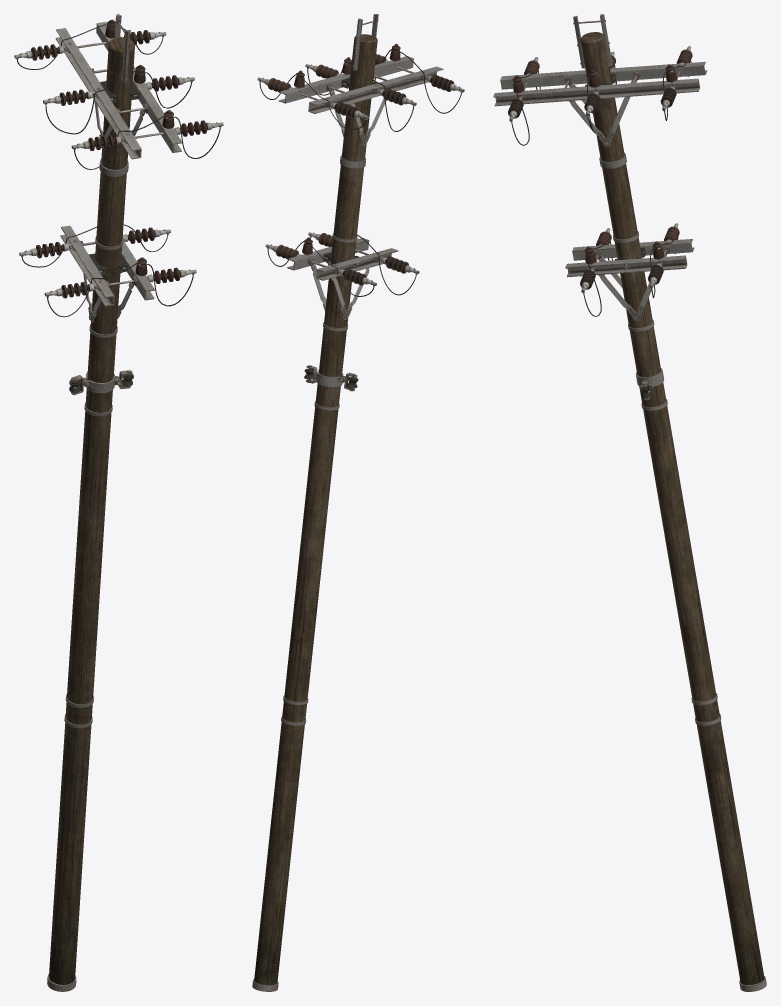
The model's file is SM_PH_elektrik_diregi.fbx.
The picture shows the model from 3 angles, left to right: view 1: azimuth 30°, elevation 25°; view 2: azimuth 150°, elevation 25°; view 3: azimuth 270°, elevation 25°; orthographic projection. The views are drawn at different scales.
Visible parts, largest first — view 1: SM_PH_elektrik_diregi; view 2: SM_PH_elektrik_diregi; view 3: SM_PH_elektrik_diregi.
Part boxes in pixels (x1,y1,x2,y2): SM_PH_elektrik_diregi: [14, 14, 223, 991]; SM_PH_elektrik_diregi: [252, 14, 464, 991]; SM_PH_elektrik_diregi: [493, 14, 766, 991].
Bounding box in the file's own units: 0.997 × 1.57 × 6.08.
2 materials, 2 textured.
